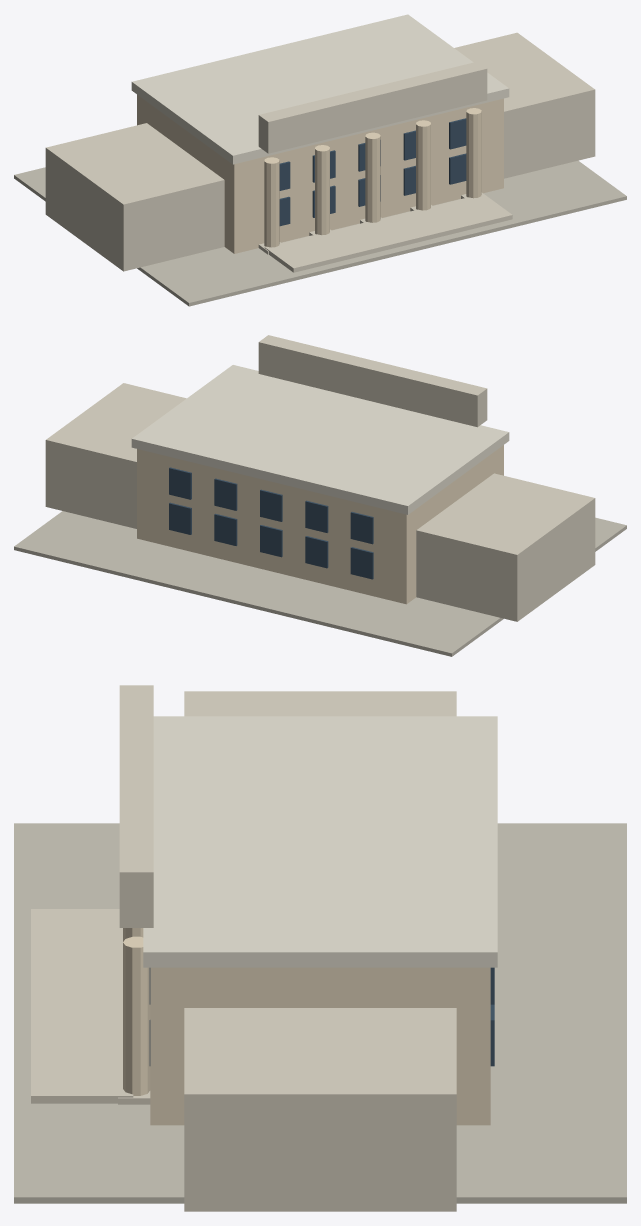
File: building.university.glb
3 renders of one model, top to bottom at view 1: azimuth 30°, elevation 25°; view 2: azimuth 150°, elevation 25°; view 3: azimuth 270°, elevation 25°, orthographic. The views are drawn at different scales.
Parts seen in each view (by area): view 1: building.university; view 2: building.university; view 3: building.university.
Boxes of the visible parts, x1,y1,x2,y2 form: building.university: (14,14,626,306); building.university: (14,335,626,656); building.university: (14,685,626,1211).
Size of the model in its own units: 28 by 7.7 by 18.
